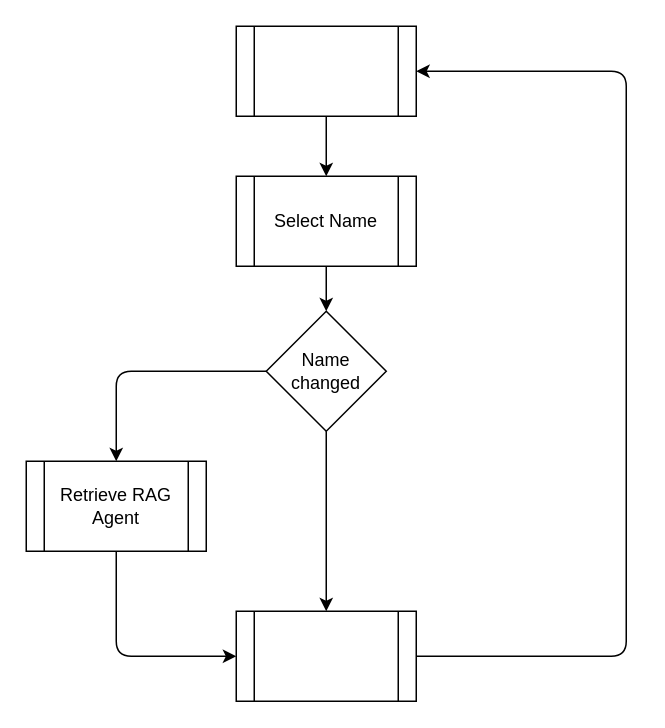
The diagram is 665 pixels wide and 728 high, and some of its shapes have lost their labels. Each missing label, with the centre of its shape:
"Ansewer Question" goes at point 325,655.
"Input Prompt" goes at point 325,70.
